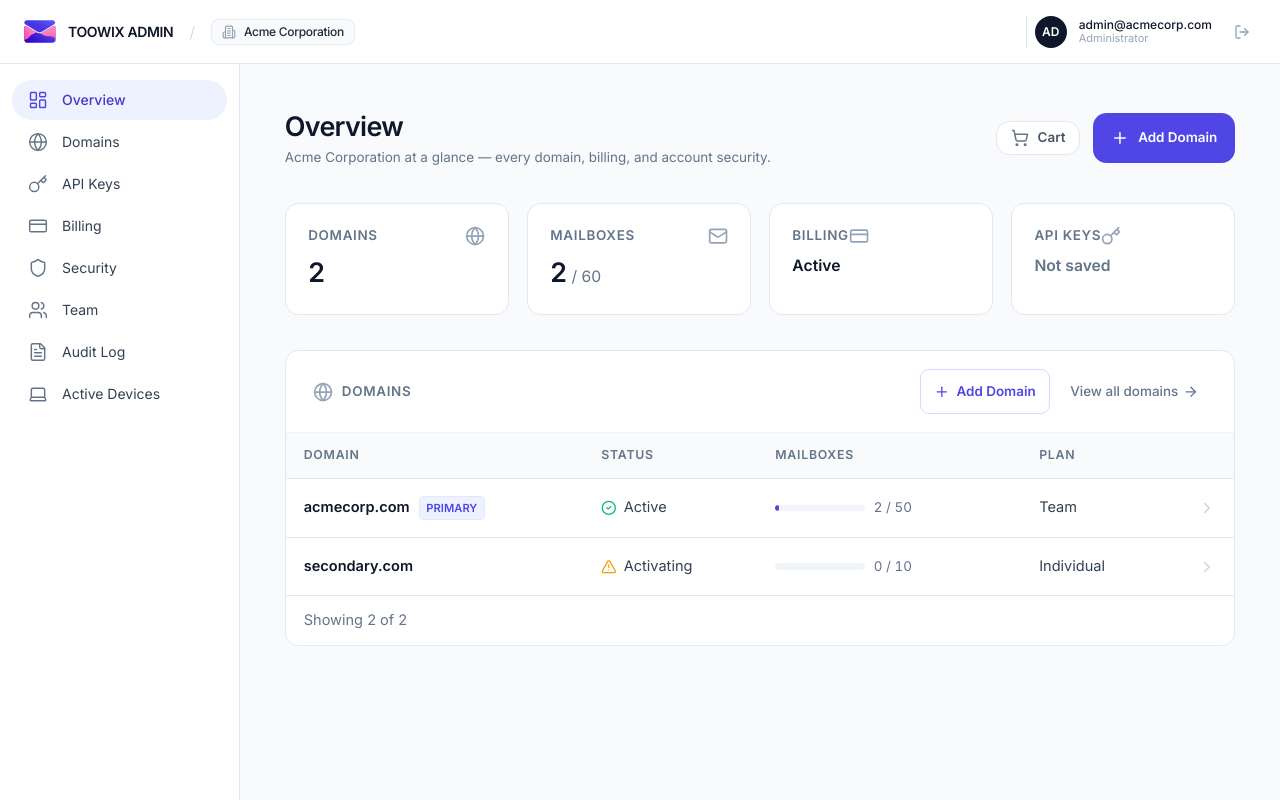
Scenario: TenantHomeView Component › filters the Domains table by search text
Expected: the heading "Overview" is shown, [285,110,403,142]
Click the button "Domains".
click(120, 142)  # box [12,122,227,162]
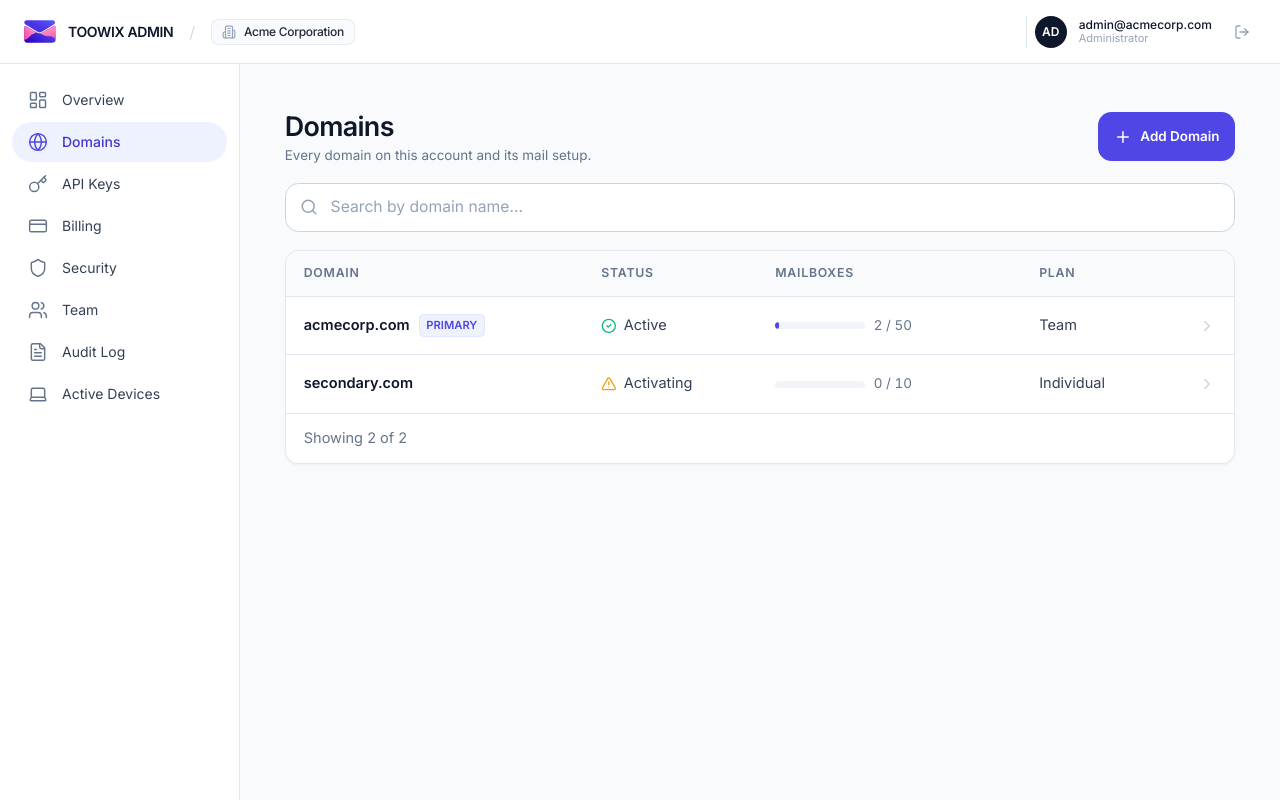
Type "secondary" into the field with placeholder "Search by domain name...".
click(760, 207); type("secondary")  # box [285,183,1235,232]
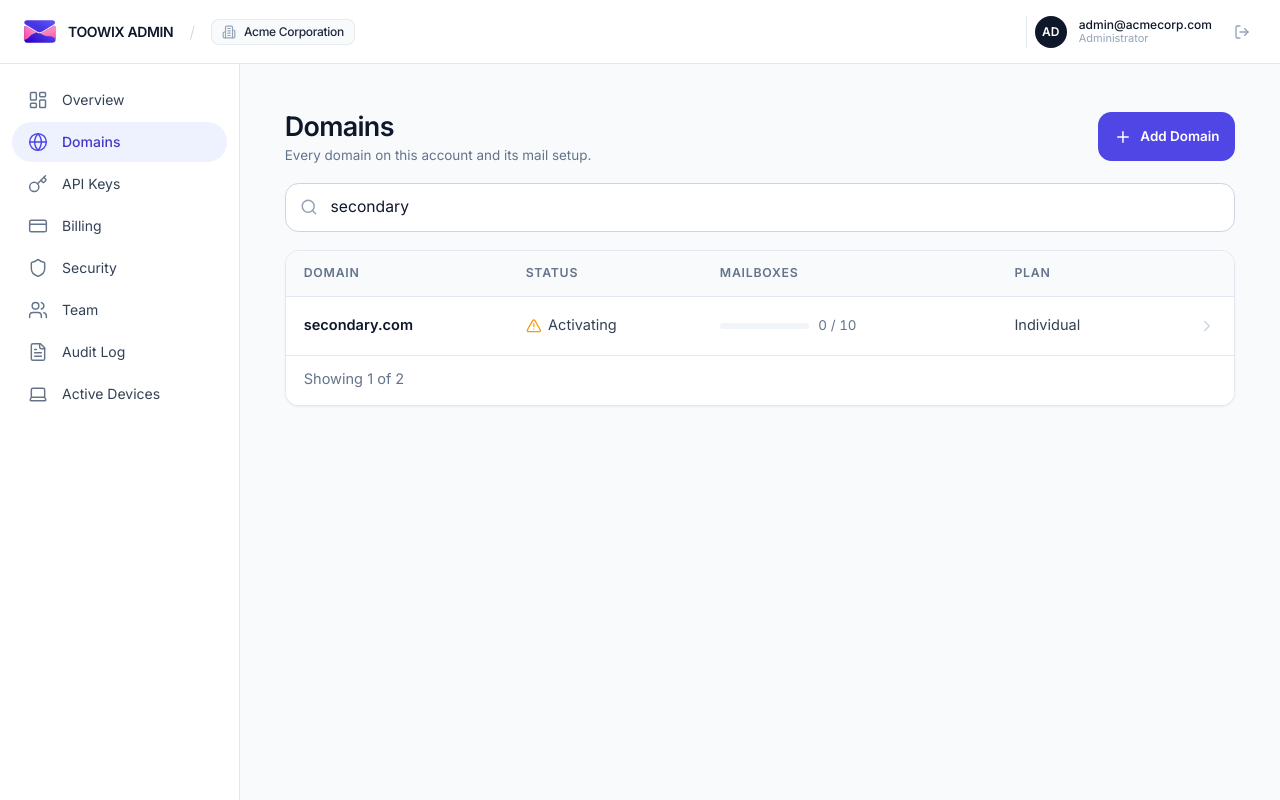
Now the text "Showing 1 of 2" is shown, box [304,369,404,391]
